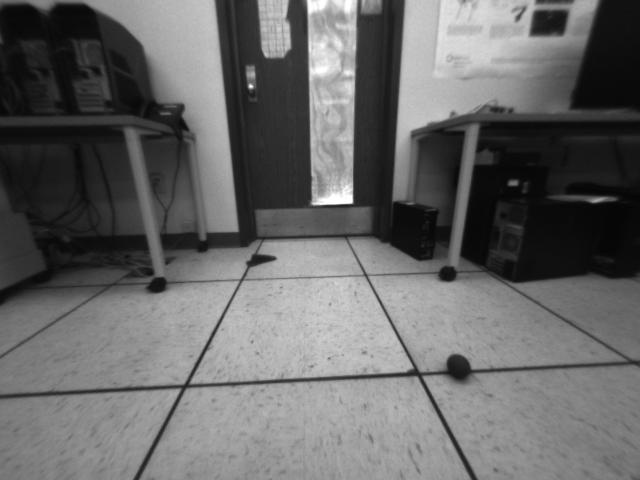dogtoy: (440, 347, 476, 383)
